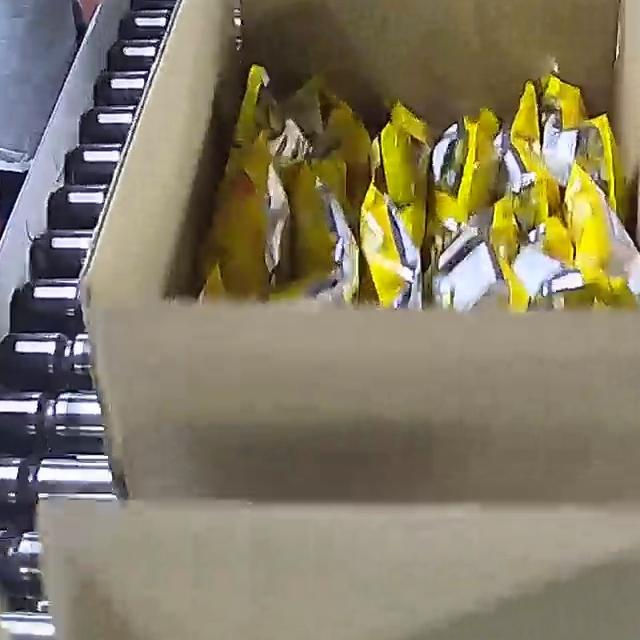salted: (191, 57, 640, 315)
